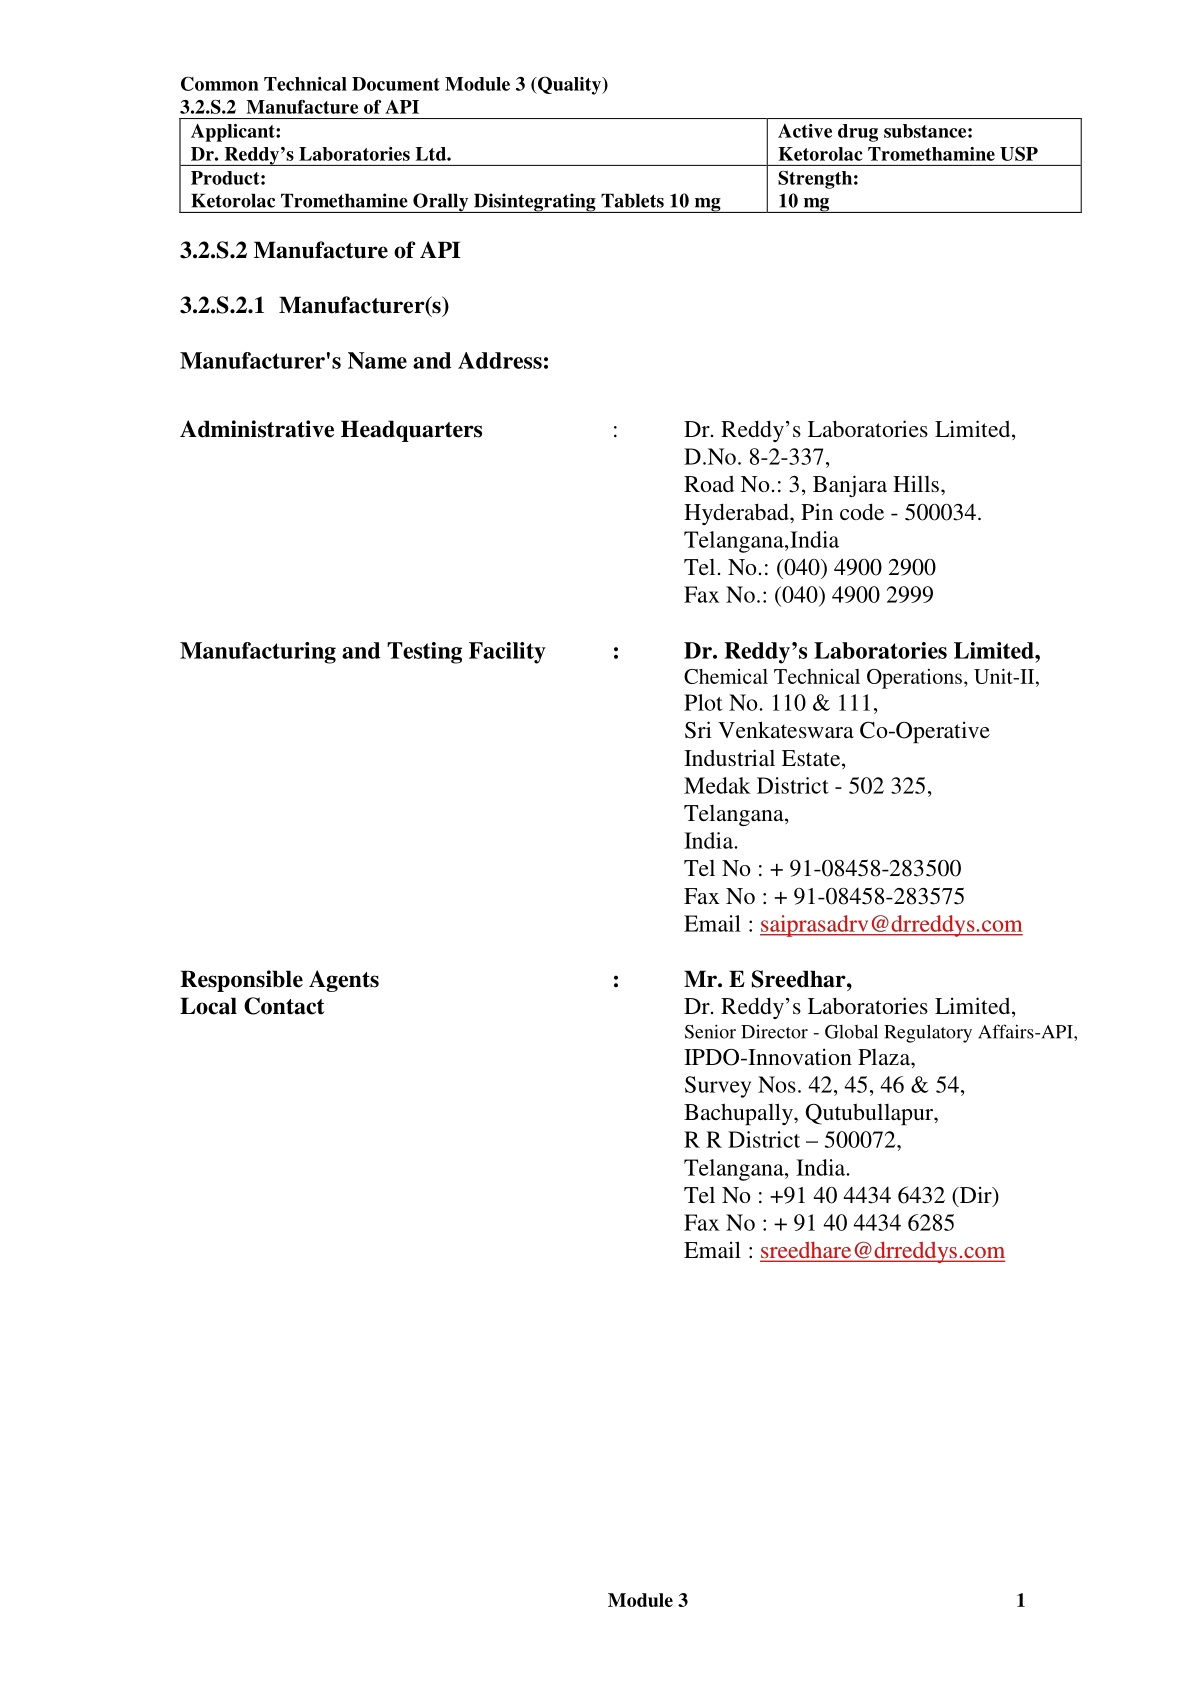full_lined: (178, 117, 1083, 214)
nolines: (177, 345, 1084, 1270)
